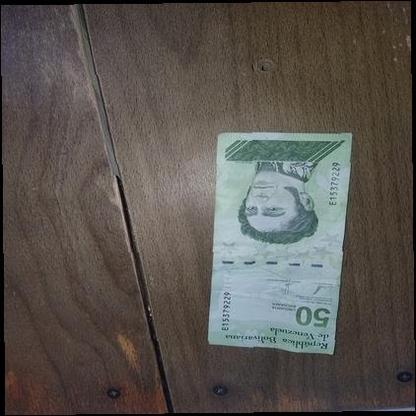fifty-front-vef: (207, 132, 352, 354)
